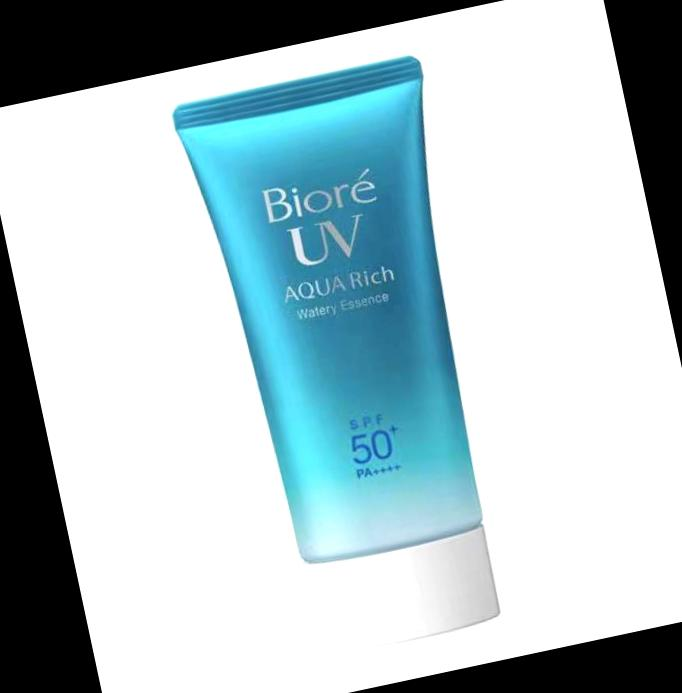cosmetic: (167, 51, 539, 667)
